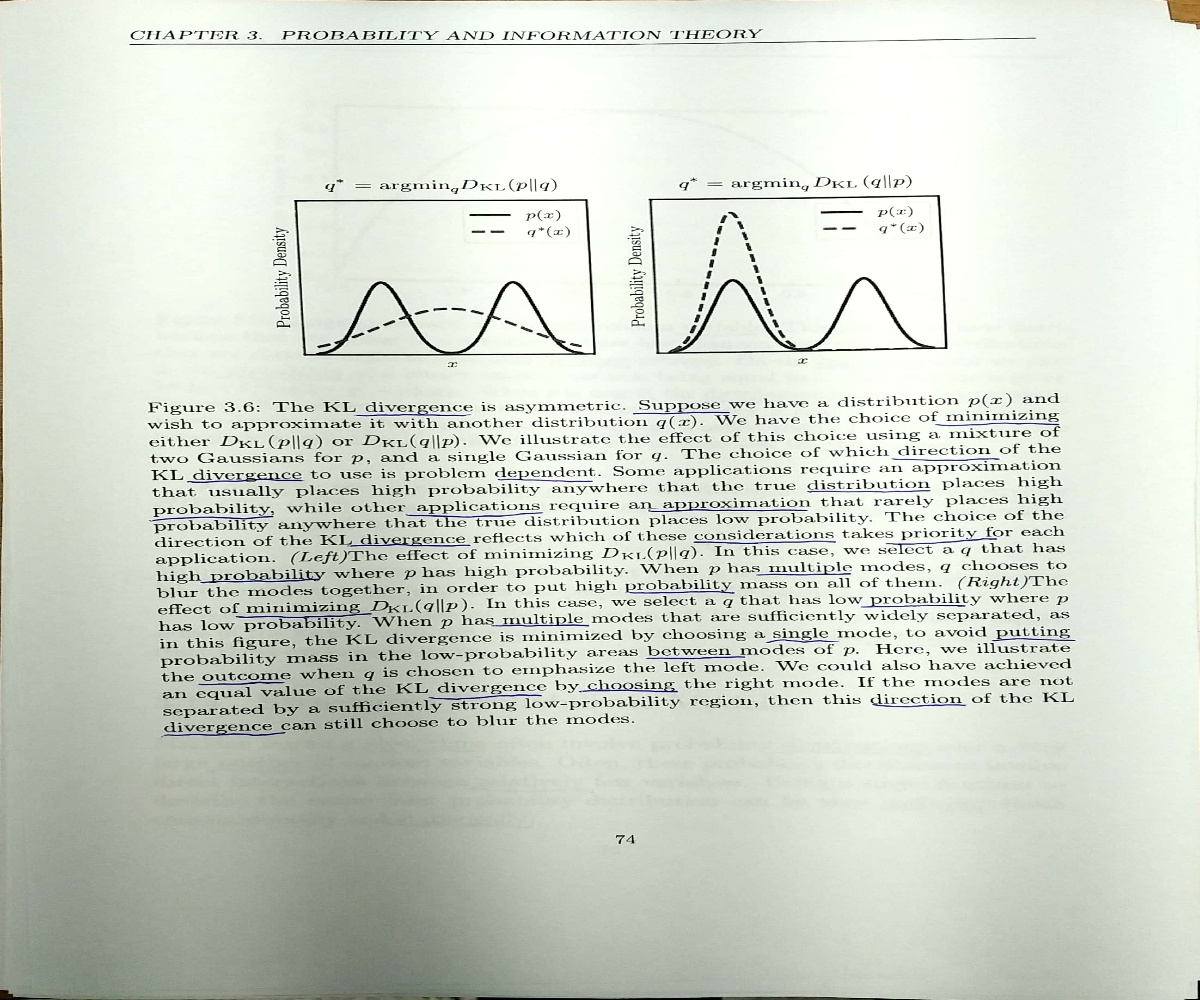underline: (644, 506, 806, 515), (160, 731, 288, 741), (404, 510, 546, 519), (806, 487, 933, 497), (691, 538, 840, 546), (426, 691, 542, 701), (889, 453, 1001, 463), (233, 612, 372, 620), (869, 701, 970, 712), (352, 409, 472, 418), (185, 477, 305, 486), (488, 621, 591, 631), (934, 420, 1061, 428), (346, 542, 471, 550), (624, 588, 737, 596), (496, 475, 595, 484), (197, 578, 324, 585), (887, 536, 996, 544), (642, 653, 746, 661), (577, 688, 678, 696), (857, 603, 967, 610), (147, 515, 274, 521), (196, 681, 288, 689), (753, 570, 854, 577), (766, 637, 840, 646), (630, 410, 732, 416), (990, 636, 1075, 642)
